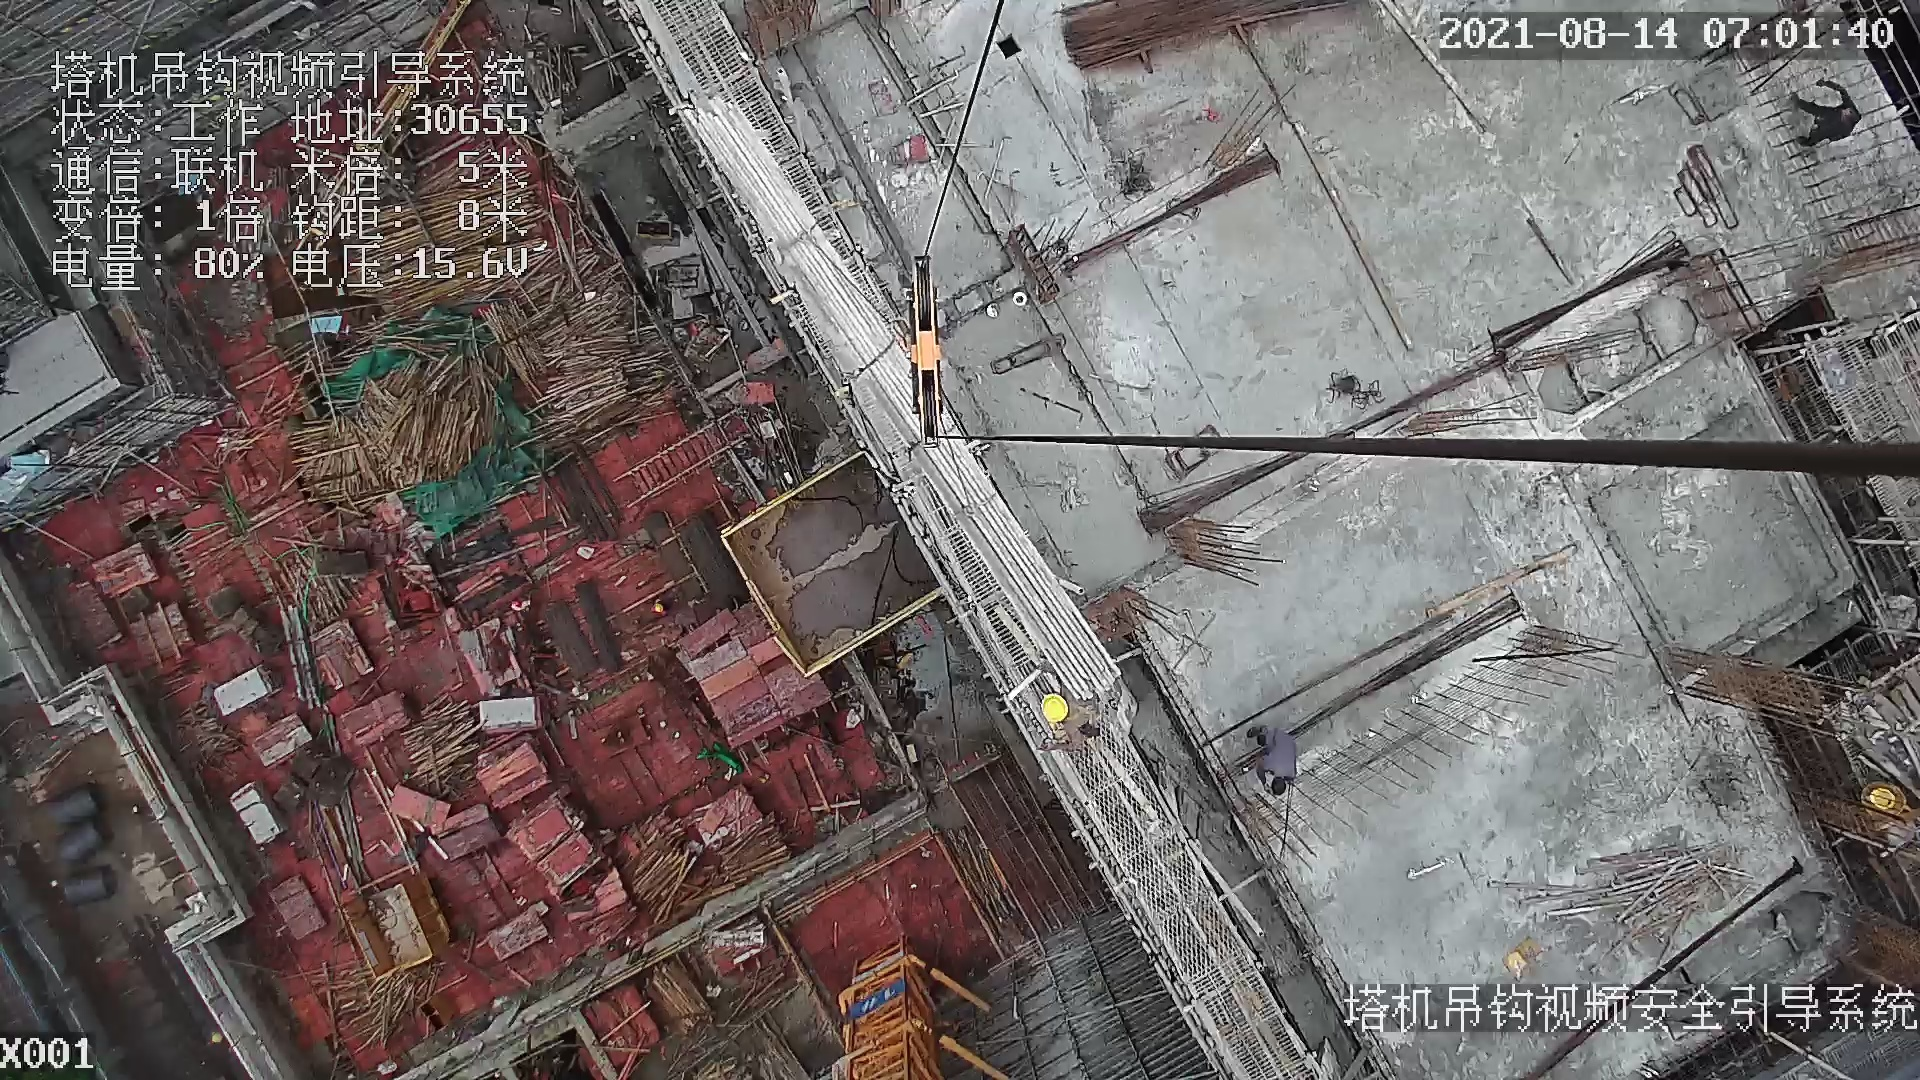helmet: (1043, 690, 1075, 729)
hook: (900, 256, 951, 451)
person: (1778, 62, 1888, 173), (1242, 719, 1304, 805), (1042, 686, 1104, 746)
